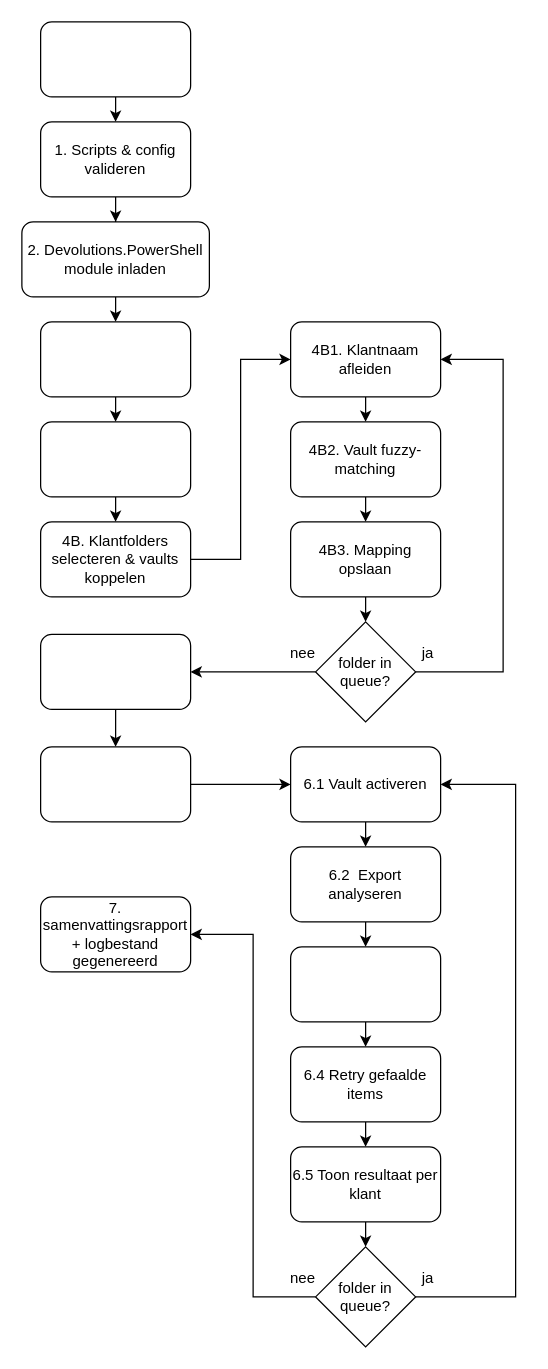
This 548x1369 diagram has some shape labels left out. The centre of each missing label's shape, as x and y in pixels:
"0. Quick Edit uitschakelen" belongs at [115,59].
"3. RDM datasource & vaults selecteren" belongs at [115,359].
"4A. Basismap kiezen" belongs at [115,459].
"5. Mappings review & bevestiging" belongs at [115,671].
"6. Import loop" belongs at [115,784].
"6.3 Import uitvoeren" belongs at [365,984].
